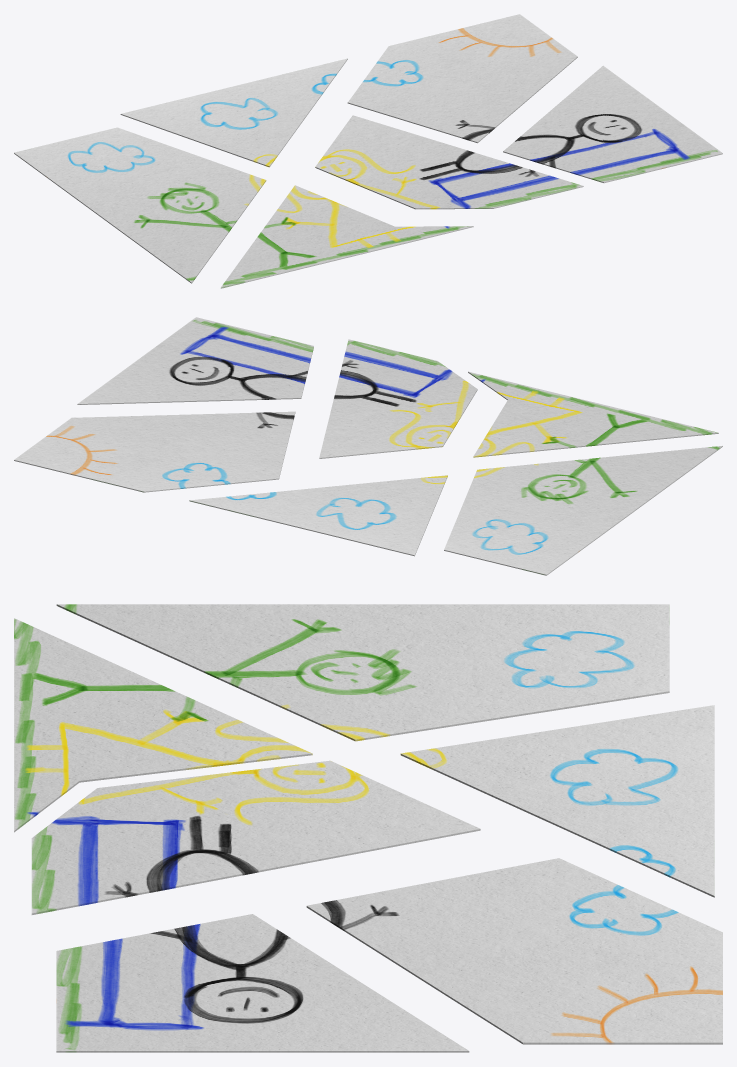
Rendered from KidHappyPapers.fbx.
3 renders of one model, top to bottom at view 1: azimuth 30°, elevation 25°; view 2: azimuth 150°, elevation 25°; view 3: azimuth 270°, elevation 25°, orthographic. The views are drawn at different scales.
Visible parts, largest first — view 1: Paper1, Paper3, Paper5, Paper4, Paper2, Paper6; view 2: Paper1, Paper3, Paper4, Paper5, Paper2, Paper6; view 3: Paper1, Paper3, Paper4, Paper5, Paper2, Paper6.
Boxes of the visible parts, <box> form: Paper1: <box>14,127,266,283</box>; Paper3: <box>347,14,577,143</box>; Paper5: <box>315,115,583,209</box>; Paper4: <box>503,65,722,183</box>; Paper2: <box>120,58,347,167</box>; Paper6: <box>220,185,473,288</box>; Paper1: <box>444,445,722,575</box>; Paper3: <box>14,411,295,492</box>; Paper4: <box>77,317,313,404</box>; Paper5: <box>319,339,477,458</box>; Paper2: <box>189,475,447,556</box>; Paper6: <box>468,371,718,457</box>; Paper1: <box>56,604,669,741</box>; Paper3: <box>306,858,722,1044</box>; Paper4: <box>56,914,469,1052</box>; Paper5: <box>31,760,480,914</box>; Paper2: <box>400,705,714,897</box>; Paper6: <box>14,618,312,832</box>.
Bounding box in the file's own units: 1380 × 23.03 × 926.
Materials: 1 (1 with a texture image).
